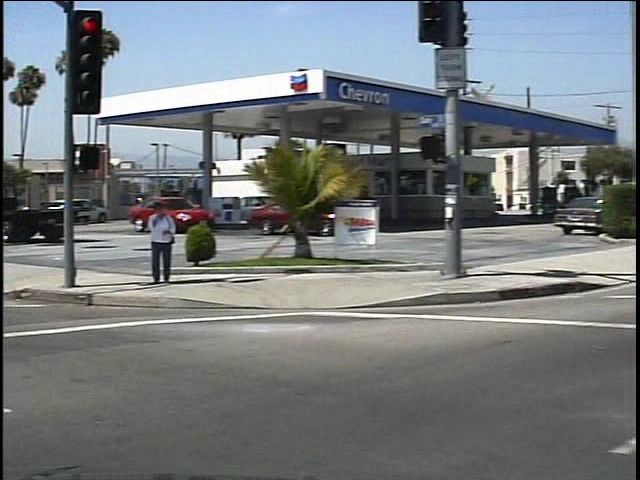person: (136, 198, 170, 291)
